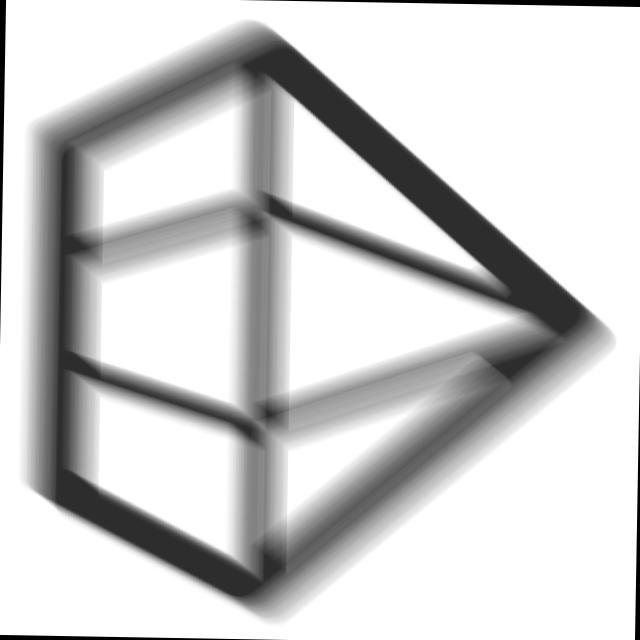diamond: (17, 10, 633, 640)
